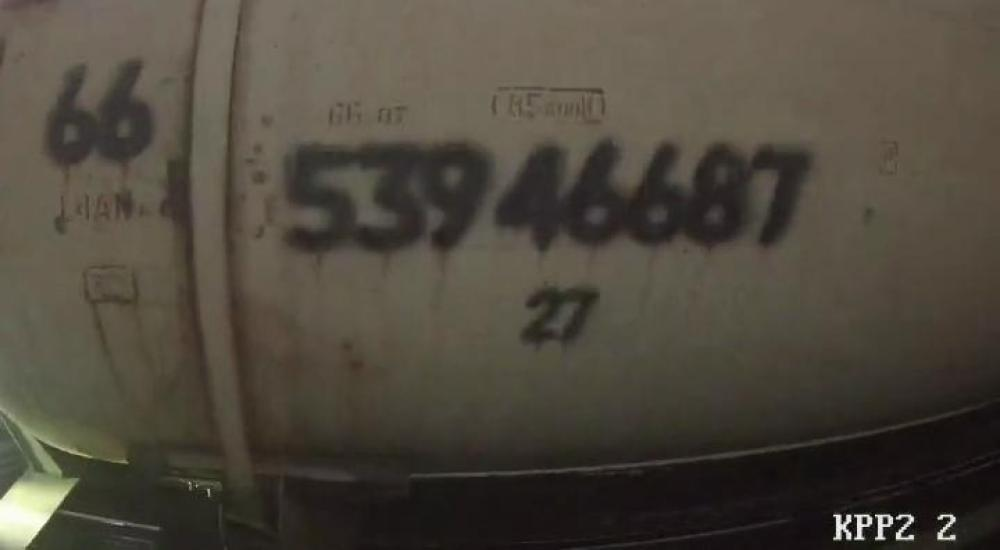Wagon-number: (279, 135, 815, 261)
